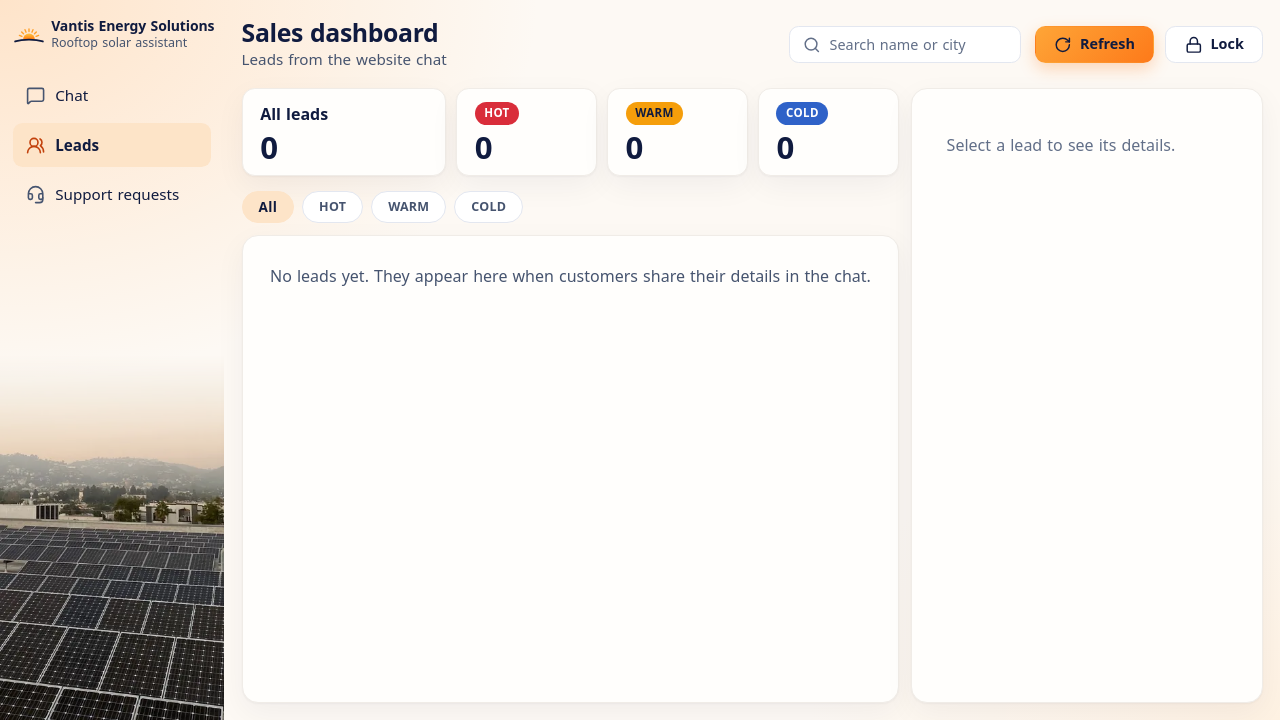
Test: states › empty: says how leads get here; a search with no match says so instead
expect the text "No leads yet. They appear here when customers share their details in the chat." is shown: met, box [270,264,871,286]
Type "zz" into the search field named "Search leads by name or city" at (918, 45), box [830,29,1006,60]
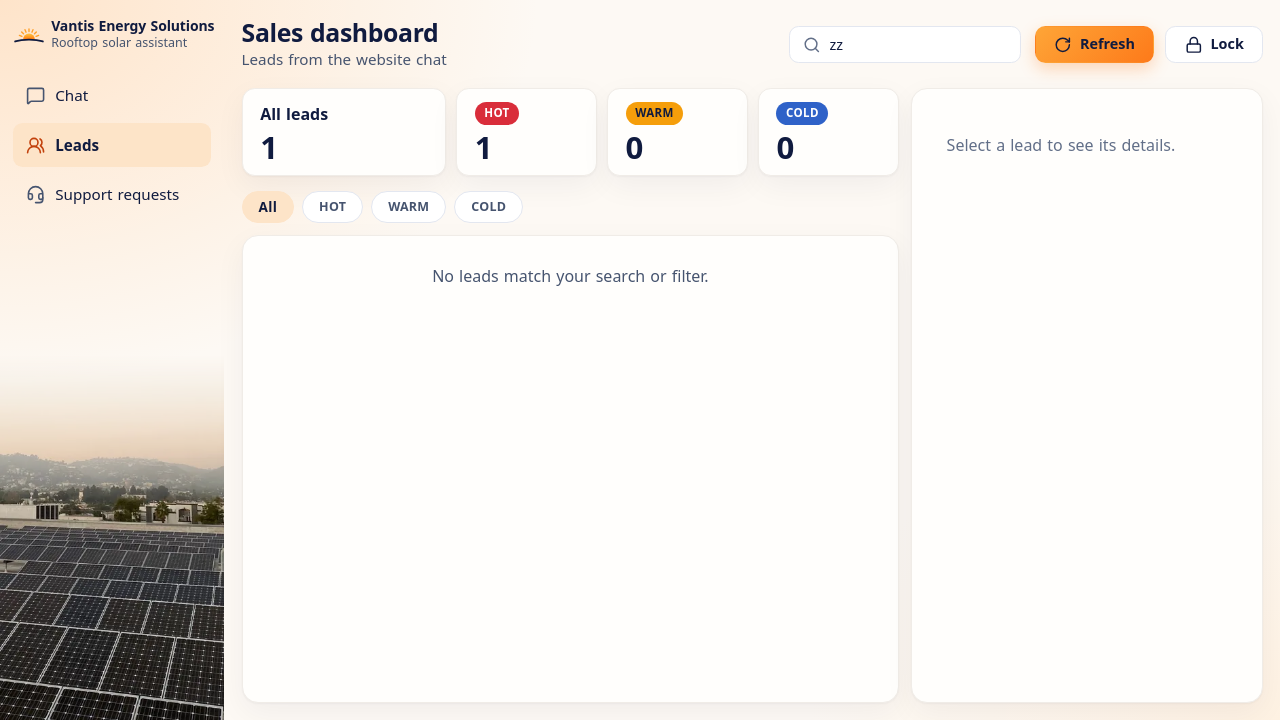
expect the text "No leads match your search or filter." is shown: met, box [432,264,709,286]
